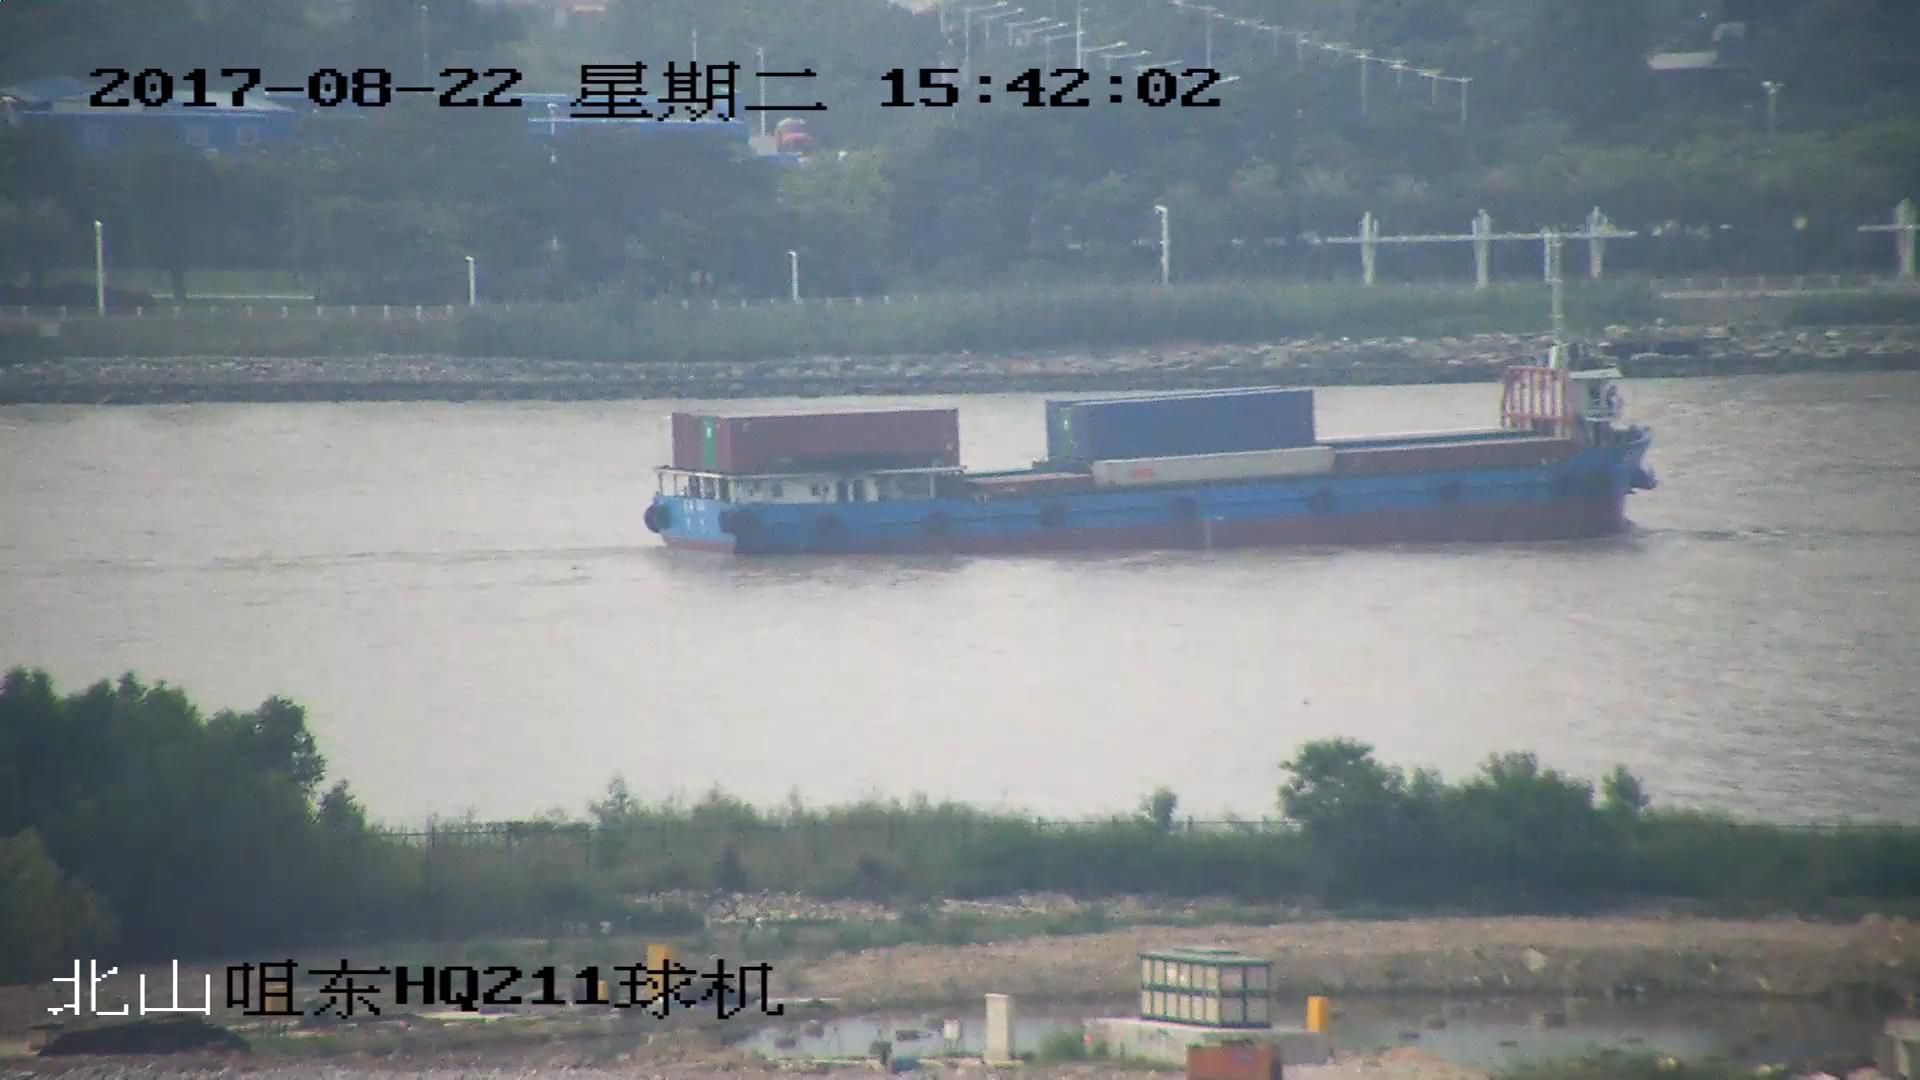Ship: (642, 315, 1663, 556)
